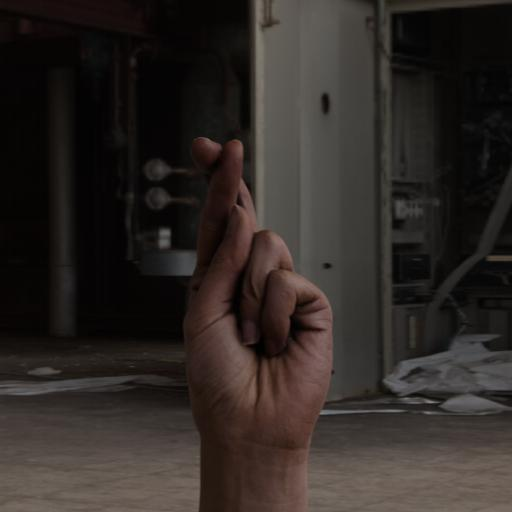R: (167, 129, 353, 501)
